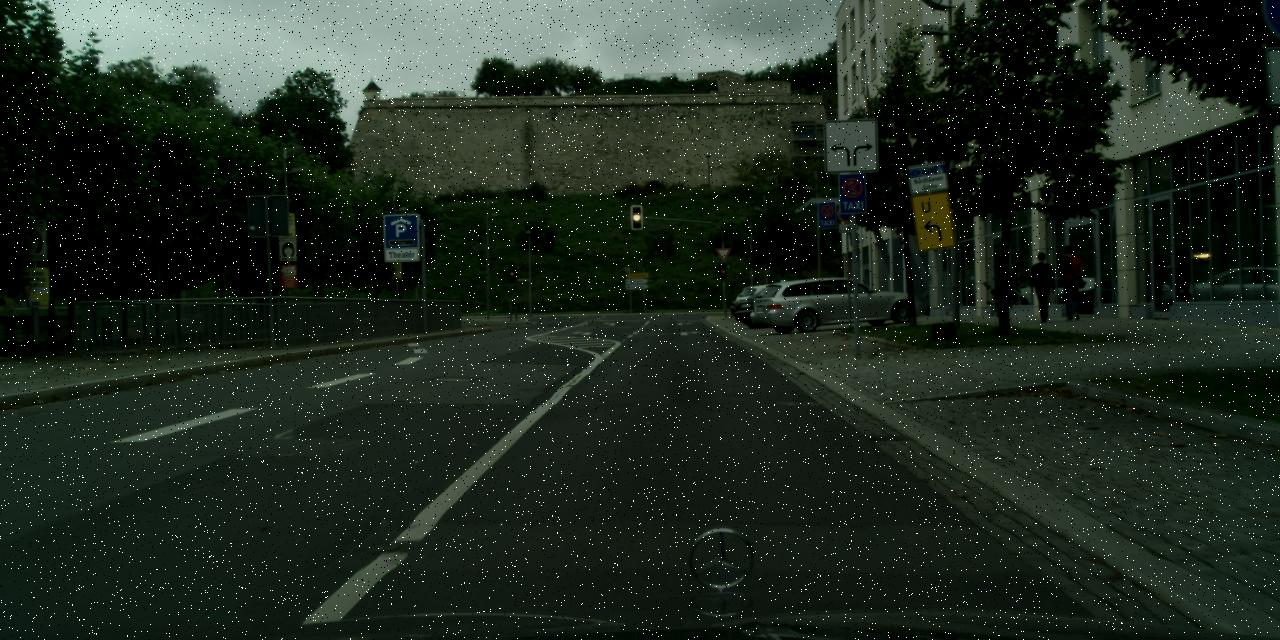ped: (1056, 246, 1086, 320), (1028, 251, 1056, 322)
